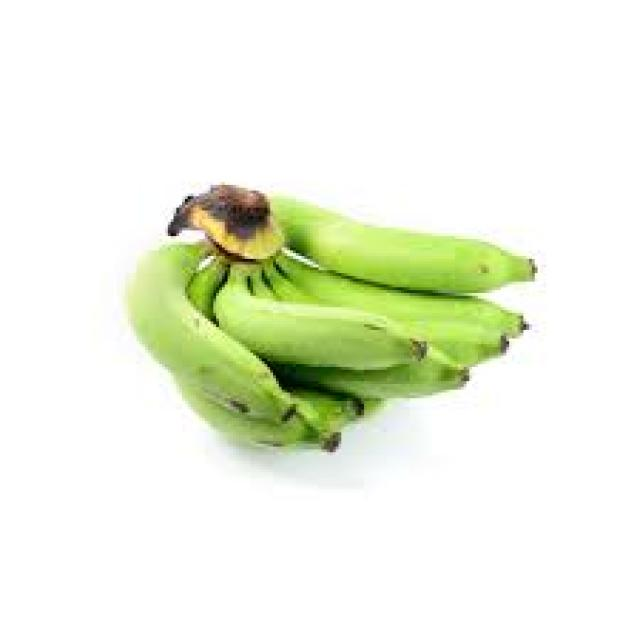banana: (122, 179, 538, 452)
